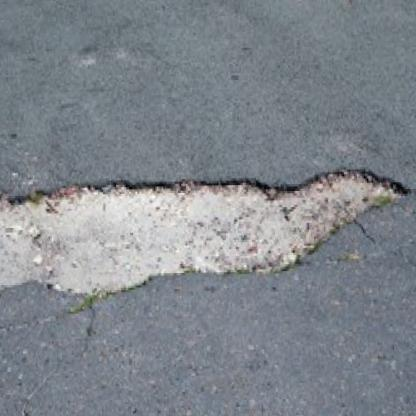pothole: (0, 173, 395, 293)
